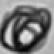correct: (3, 0, 49, 54)
